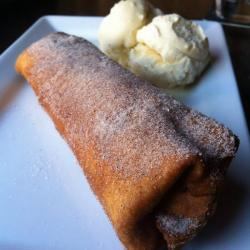apple_pie: (26, 44, 229, 247)
icecream: (99, 3, 214, 92)
